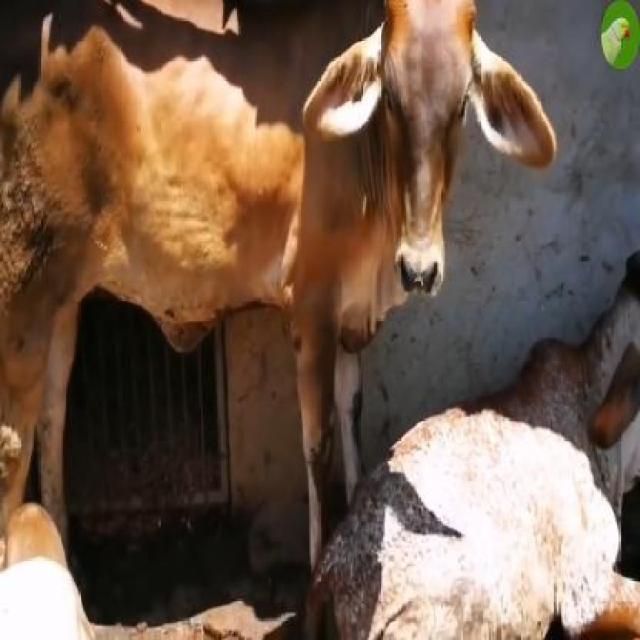Cow: (292, 0, 566, 342)
